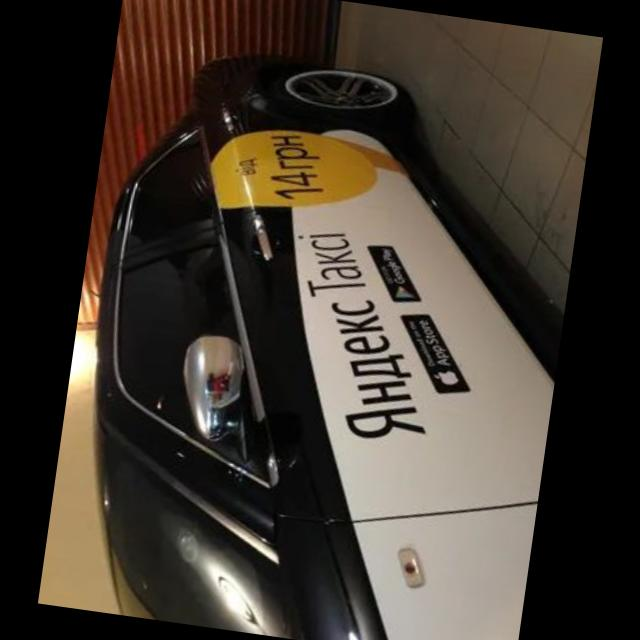taxi: (52, 34, 595, 640)
